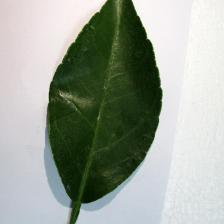healthy: (49, 0, 164, 202)
